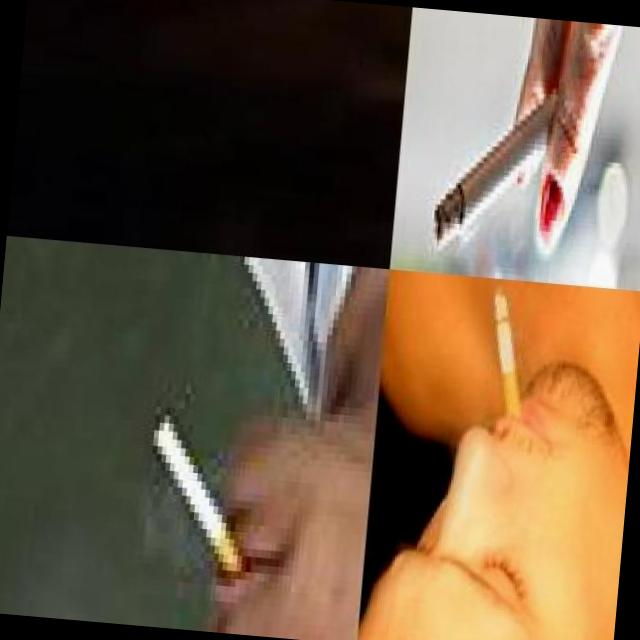smoke: (428, 65, 582, 266), (138, 410, 260, 590), (480, 284, 534, 431)
